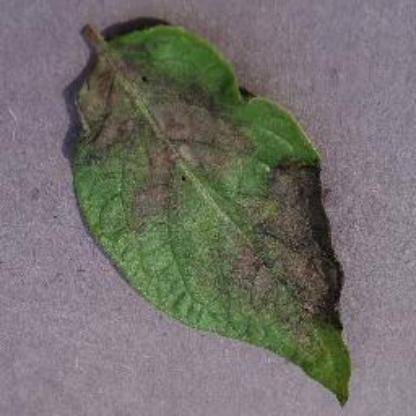Late-Blight: (63, 17, 367, 407)
